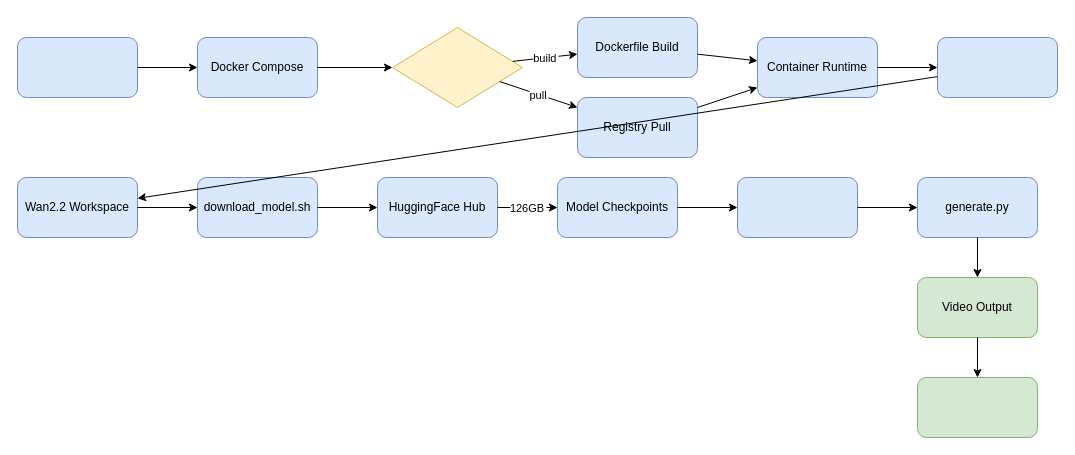
Image size: 1075x455. Some labels were removed from this diagram. Here are the shapes that lost their labels. From the top down, the centre of each, then its label:
(x=77, y=67): User: run.sh
(x=457, y=67): Container Mode
(x=997, y=67): GPU Allocation
(x=797, y=207): Inference Ready
(x=977, y=407): /opt/outputs Volume
